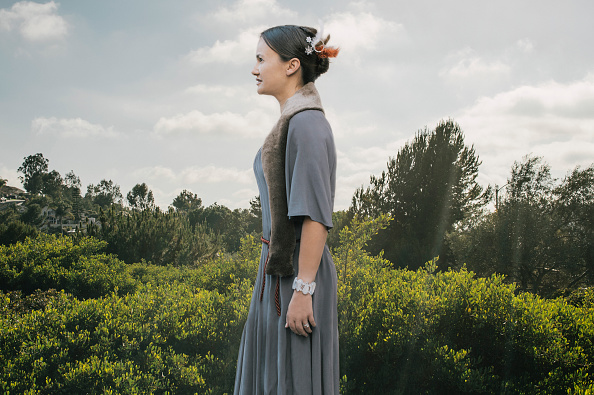em pe: (227, 17, 352, 395)
